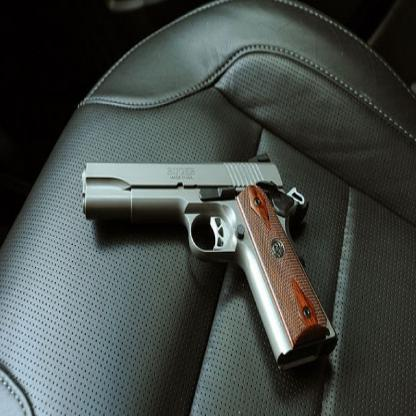Pistol: (80, 156, 336, 368)
